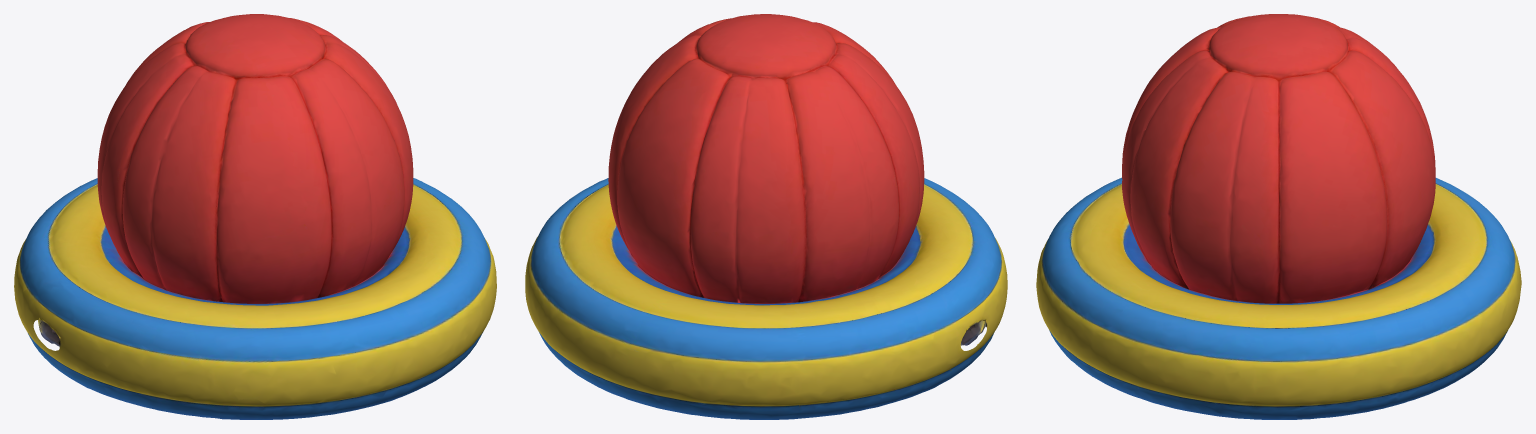
File: ball_mount.glb
The picture shows the model from 3 angles, left to right: view 1: azimuth 30°, elevation 25°; view 2: azimuth 150°, elevation 25°; view 3: azimuth 270°, elevation 25°; orthographic projection.
Parts seen in each view (by area): view 1: tripo_node_978f7a47-cfa2-4411-921d-9e460d3550fa; view 2: tripo_node_978f7a47-cfa2-4411-921d-9e460d3550fa; view 3: tripo_node_978f7a47-cfa2-4411-921d-9e460d3550fa.
Boxes of the visible parts, x1,y1,x2,y2 form: tripo_node_978f7a47-cfa2-4411-921d-9e460d3550fa: [14, 14, 496, 419]; tripo_node_978f7a47-cfa2-4411-921d-9e460d3550fa: [525, 14, 1007, 419]; tripo_node_978f7a47-cfa2-4411-921d-9e460d3550fa: [1036, 14, 1521, 419].
Size of the model in its own units: 0.4998 by 0.35 by 0.5025.
Materials: 1 (1 with a texture image).
